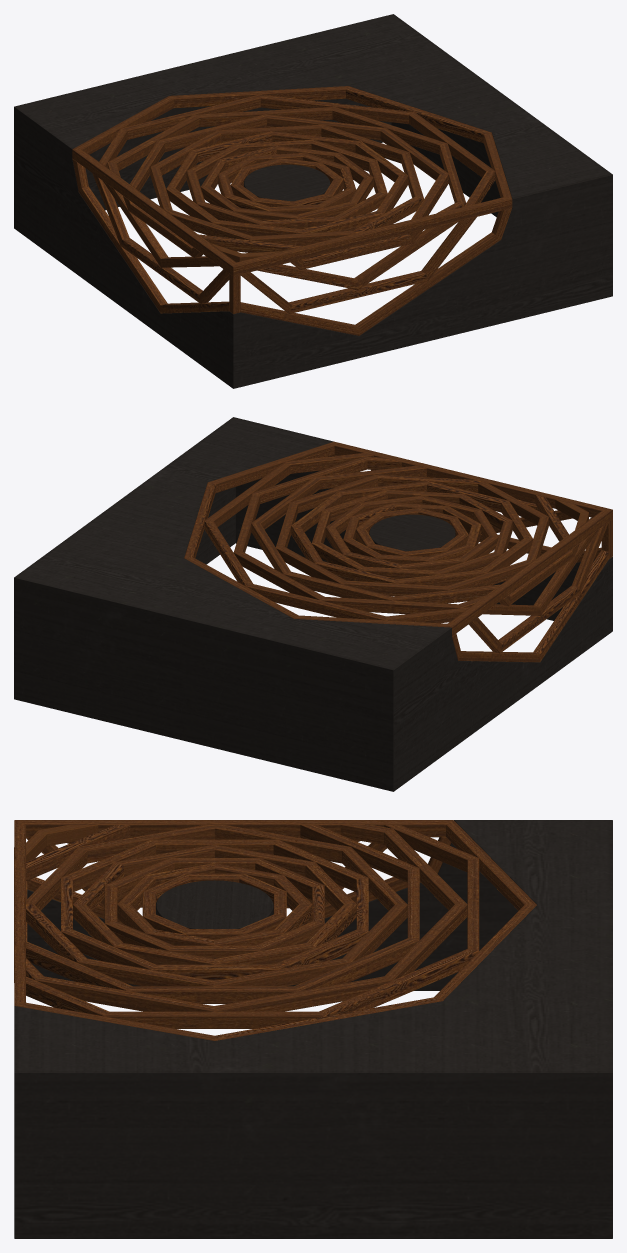
Rendered from modern_coffee_table_02_1k.gltf.
The picture shows the model from 3 angles, top to bottom: view 1: azimuth 30°, elevation 25°; view 2: azimuth 150°, elevation 25°; view 3: azimuth 270°, elevation 25°; orthographic projection. The views are drawn at different scales.
Visible parts, largest first — view 1: modern_coffee_table_02; view 2: modern_coffee_table_02; view 3: modern_coffee_table_02.
Part boxes in pixels (left/top/right/bottom): modern_coffee_table_02: left=14, top=14, right=612, bottom=388; modern_coffee_table_02: left=14, top=417, right=612, bottom=791; modern_coffee_table_02: left=14, top=820, right=612, bottom=1238.
Size of the model in its own units: 1.2 by 0.3693 by 1.2.
Materials: 2 (2 with a texture image).
